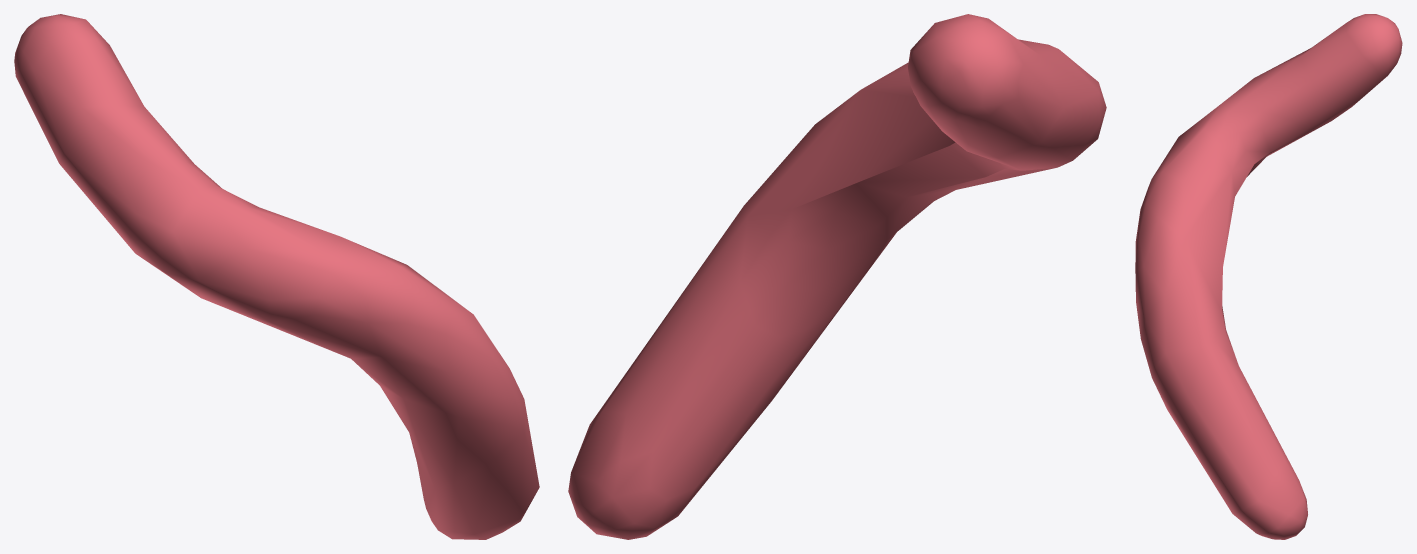
The model's file is fma8663_fj3069.glb.
3 renders of one model, left to right at view 1: azimuth 30°, elevation 25°; view 2: azimuth 150°, elevation 25°; view 3: azimuth 270°, elevation 25°, orthographic. The views are drawn at different scales.
Visible parts, largest first — view 1: FMA8663_FJ3069; view 2: FMA8663_FJ3069; view 3: FMA8663_FJ3069.
Boxes of the visible parts, box(x1,y1,x2,y2) form: FMA8663_FJ3069: box(14, 14, 539, 539); FMA8663_FJ3069: box(568, 14, 1106, 539); FMA8663_FJ3069: box(1135, 14, 1402, 539).
Size of the model in its own units: 0.0251 by 0.0306 by 0.0186.
